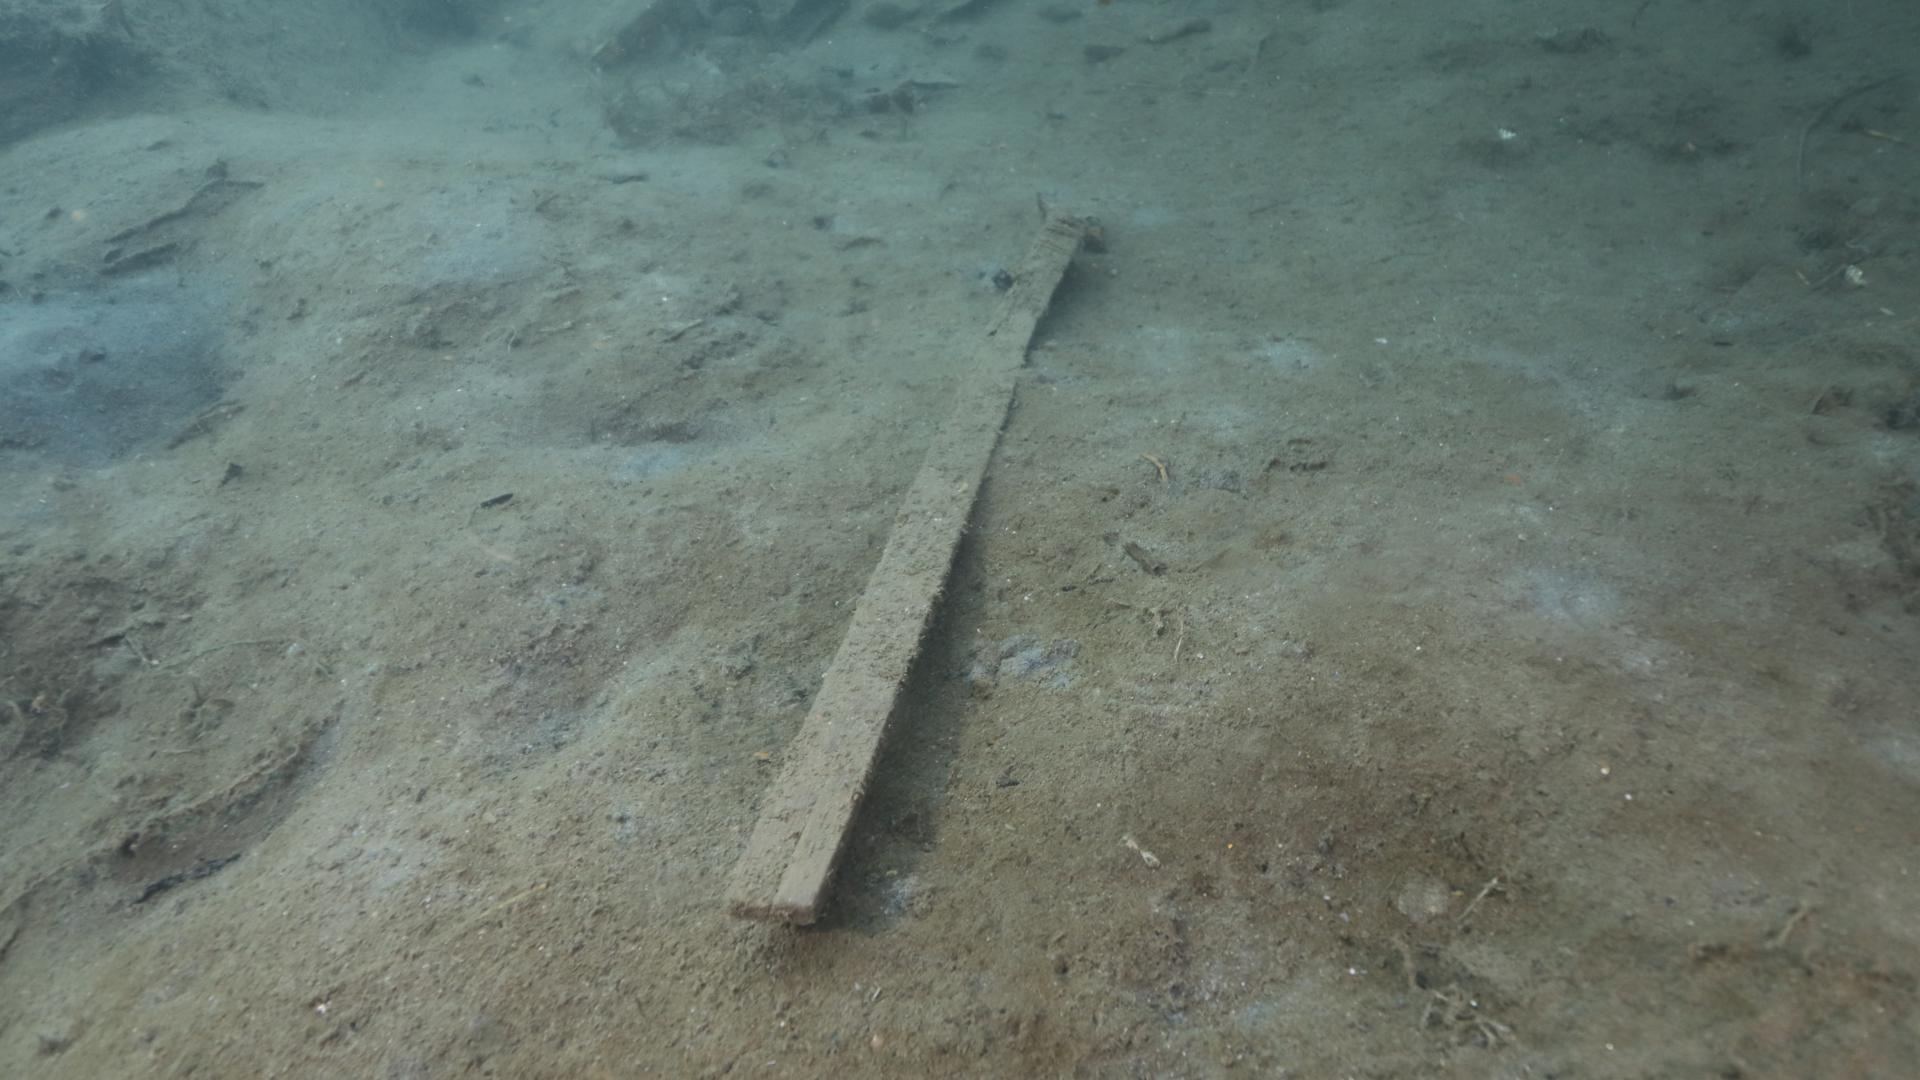wood: (717, 210, 1087, 928)
